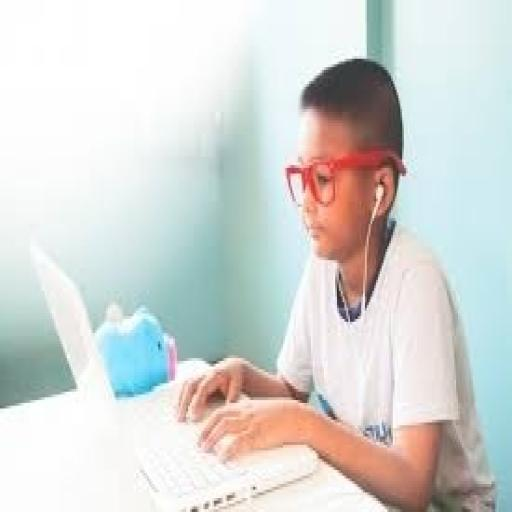using_laptop: (28, 232, 318, 509)
